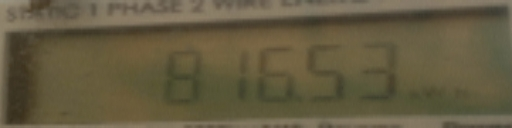1: (233, 36, 251, 106)
3: (362, 34, 403, 105)
5: (309, 39, 349, 107)
6: (260, 34, 296, 112)
8: (146, 30, 218, 117)
d: (291, 92, 307, 111)
